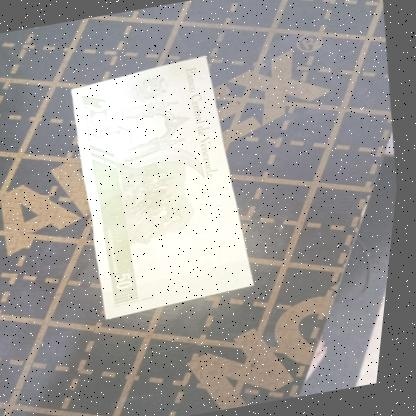dollar_back: (51, 50, 281, 324)
